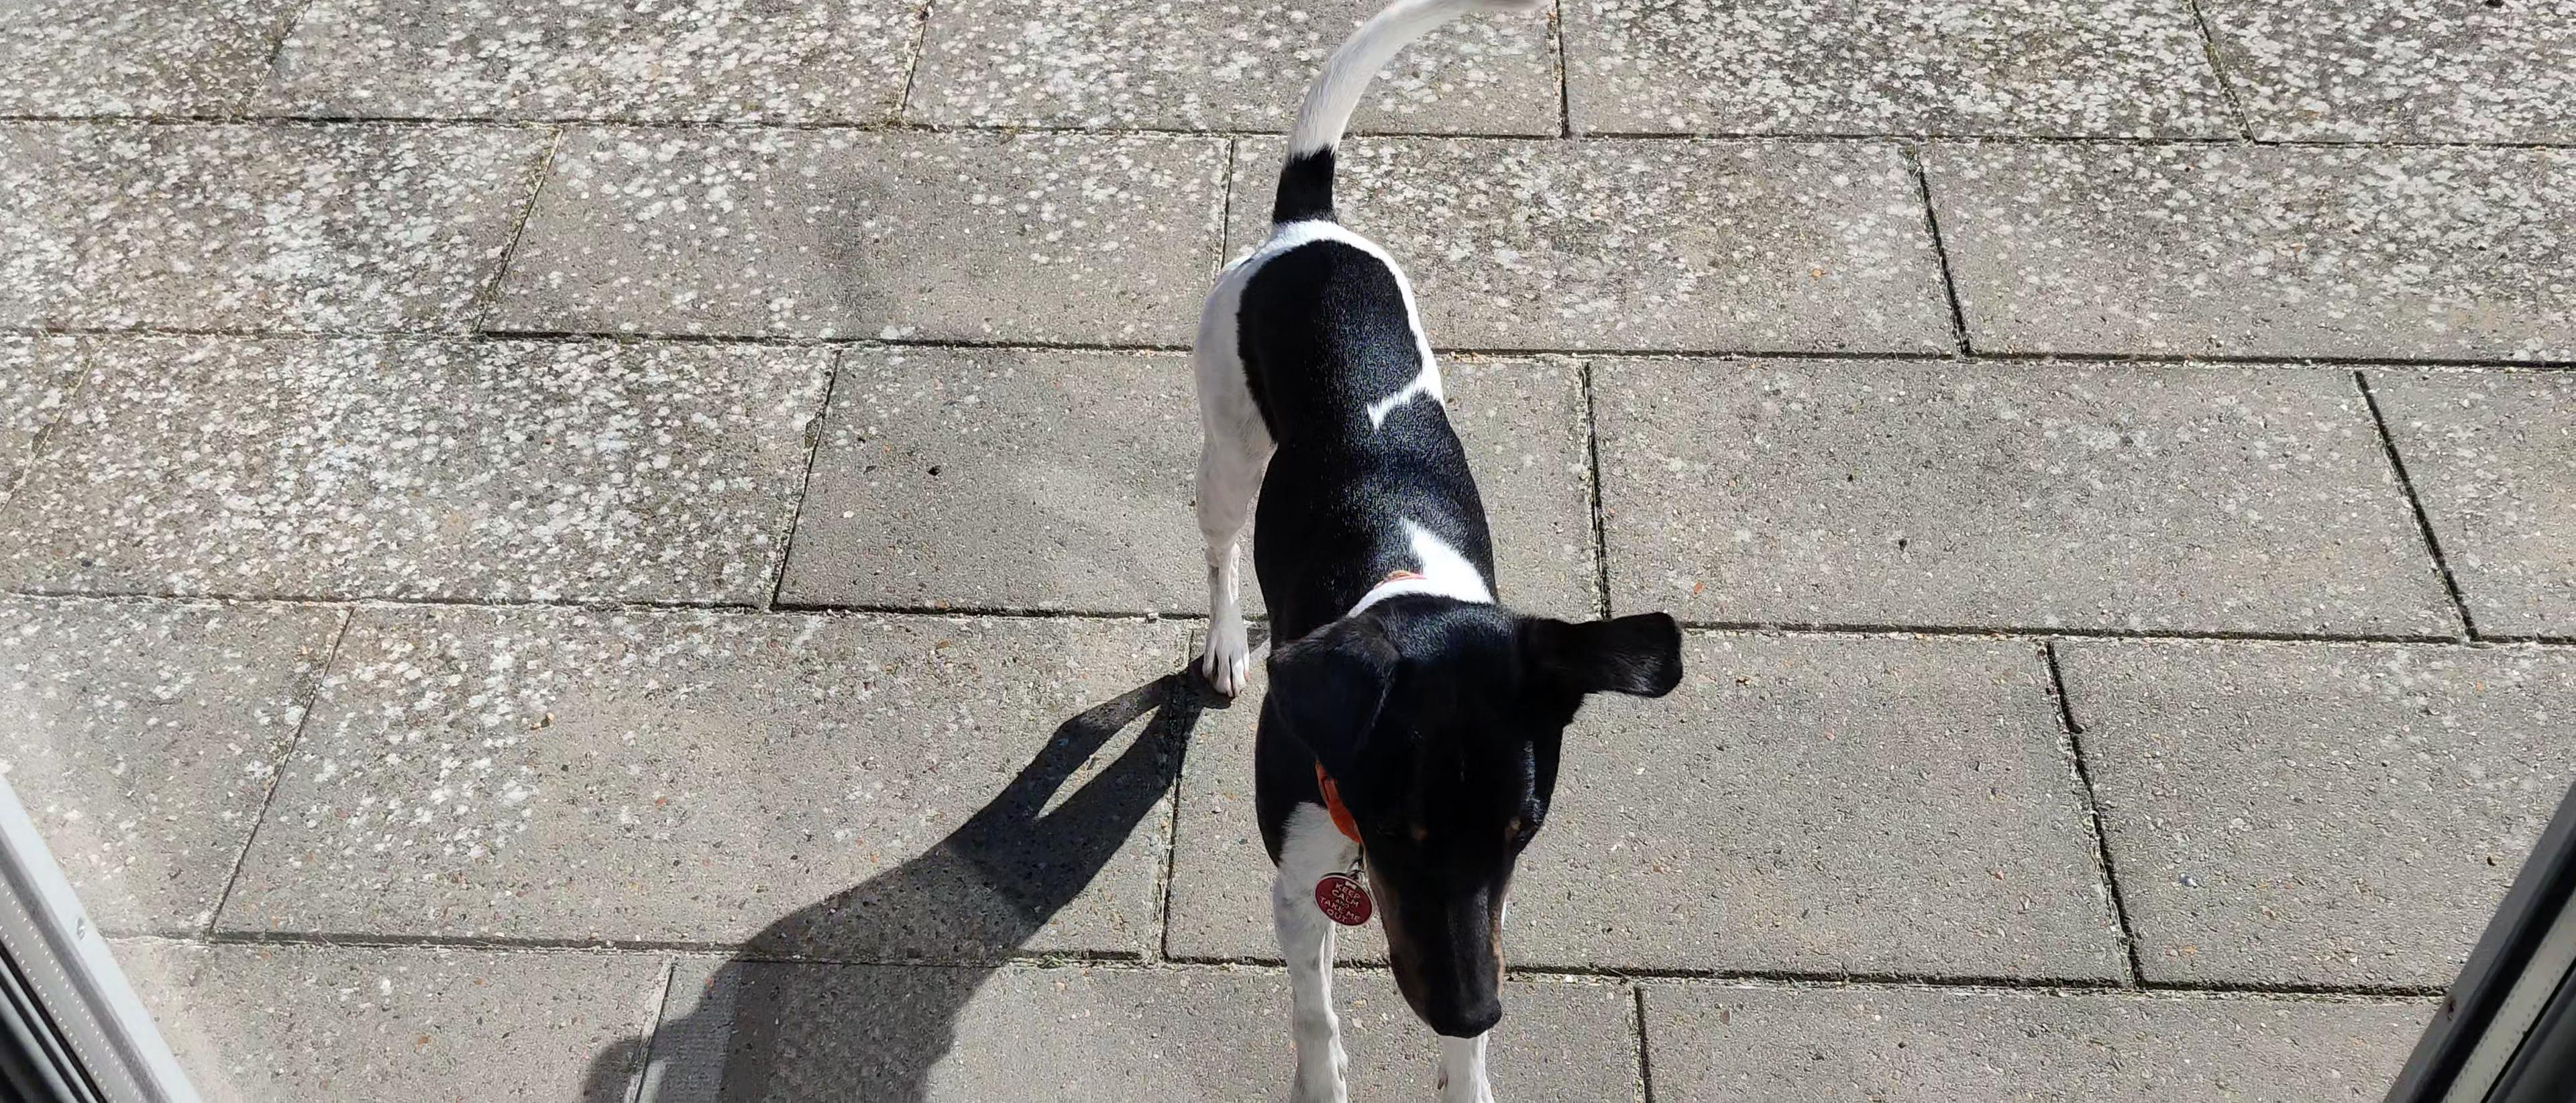Dog: (1142, 0, 1709, 1103)
